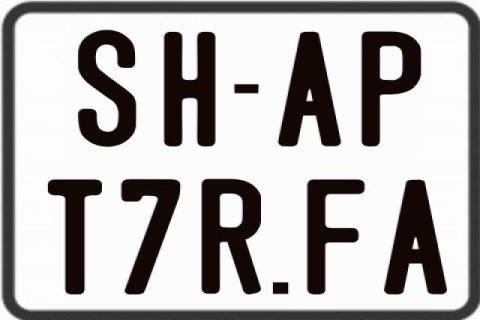0: (122, 180, 182, 298)
A: (383, 180, 450, 297), (277, 32, 344, 147)
F: (307, 178, 368, 298)
H: (164, 30, 214, 148)
P: (361, 29, 424, 145)
R: (199, 177, 264, 292)
S: (75, 29, 137, 149)
T: (45, 177, 102, 296)
